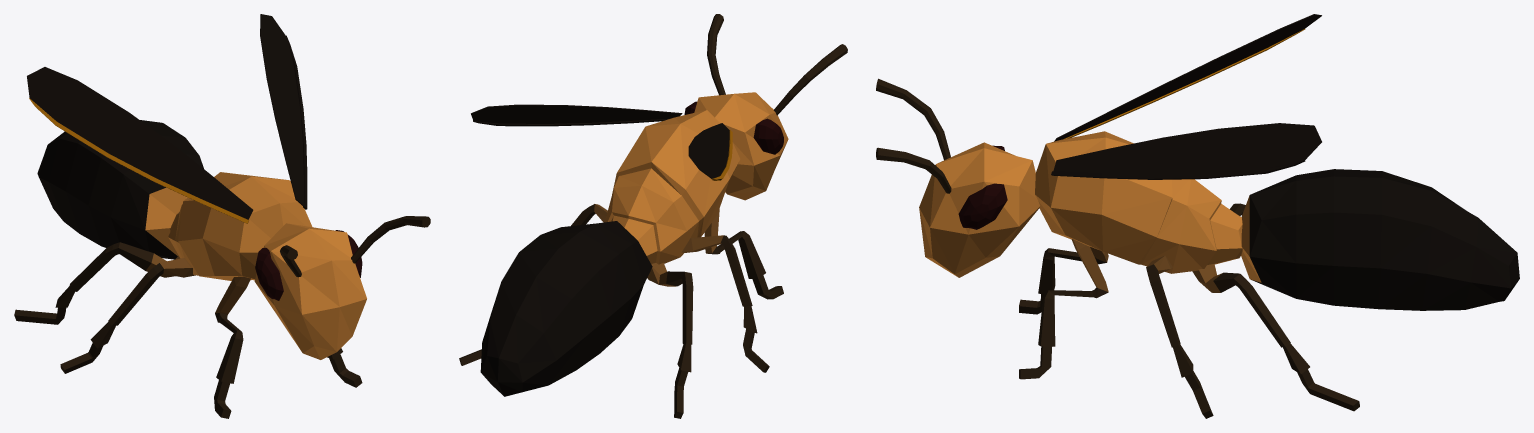
Rendered from firefly.glb.
3 views of the same model, side by side, from view 1: azimuth 30°, elevation 25°; view 2: azimuth 150°, elevation 25°; view 3: azimuth 270°, elevation 25° (orthographic). The views are drawn at different scales.
Parts seen in each view (by area): view 1: BODY, RWING, LIGHT, BODY.001; view 2: BODY, LIGHT, BODY.001, RWING; view 3: BODY, LIGHT, BODY.001, RWING.
Boxes of the visible parts, x1,y1,x2,y2 form: BODY: (14, 172, 430, 418); RWING: (27, 67, 253, 223); LIGHT: (37, 120, 203, 259); BODY.001: (260, 14, 307, 209); BODY: (459, 14, 847, 418); LIGHT: (480, 221, 652, 396); BODY.001: (471, 104, 682, 126); RWING: (688, 123, 732, 180); BODY: (876, 78, 1359, 418); LIGHT: (1249, 169, 1519, 310); BODY.001: (1051, 123, 1321, 179); RWING: (1054, 14, 1321, 141).
Bounding box in the file's own units: 2.79 × 2.5 × 5.19.
